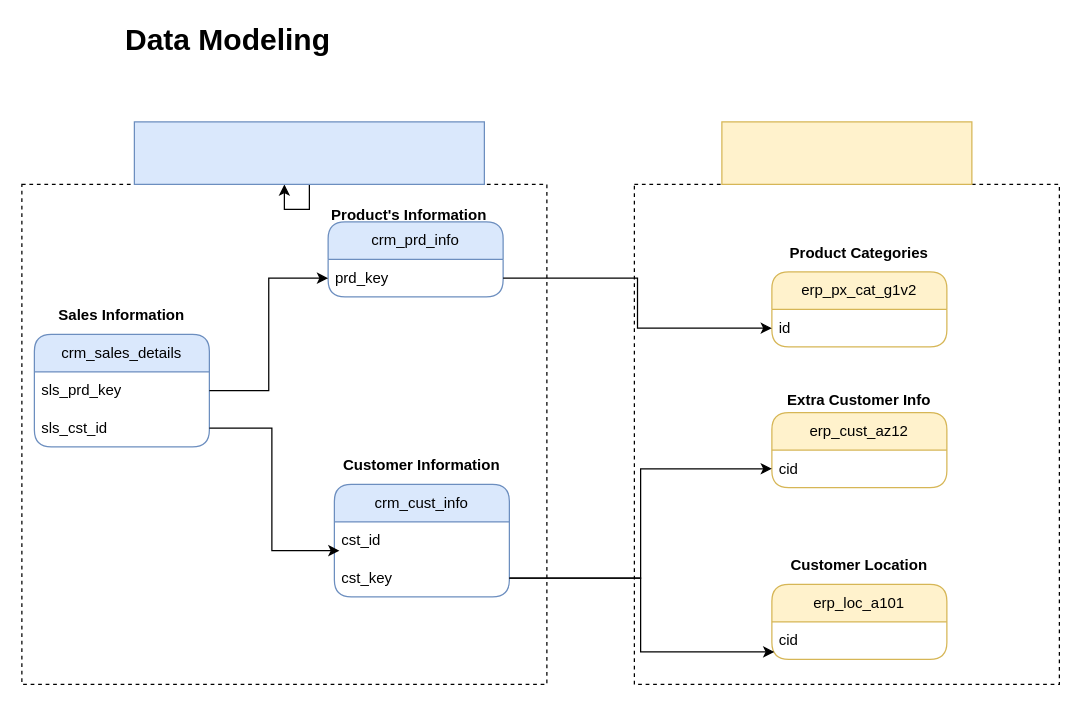
Image size: 1081x706. Some labels were removed from this diagram. The centre of each missing label's shape, as x and y in pixels:
CRM: (308,152)
ERP: (846,152)
